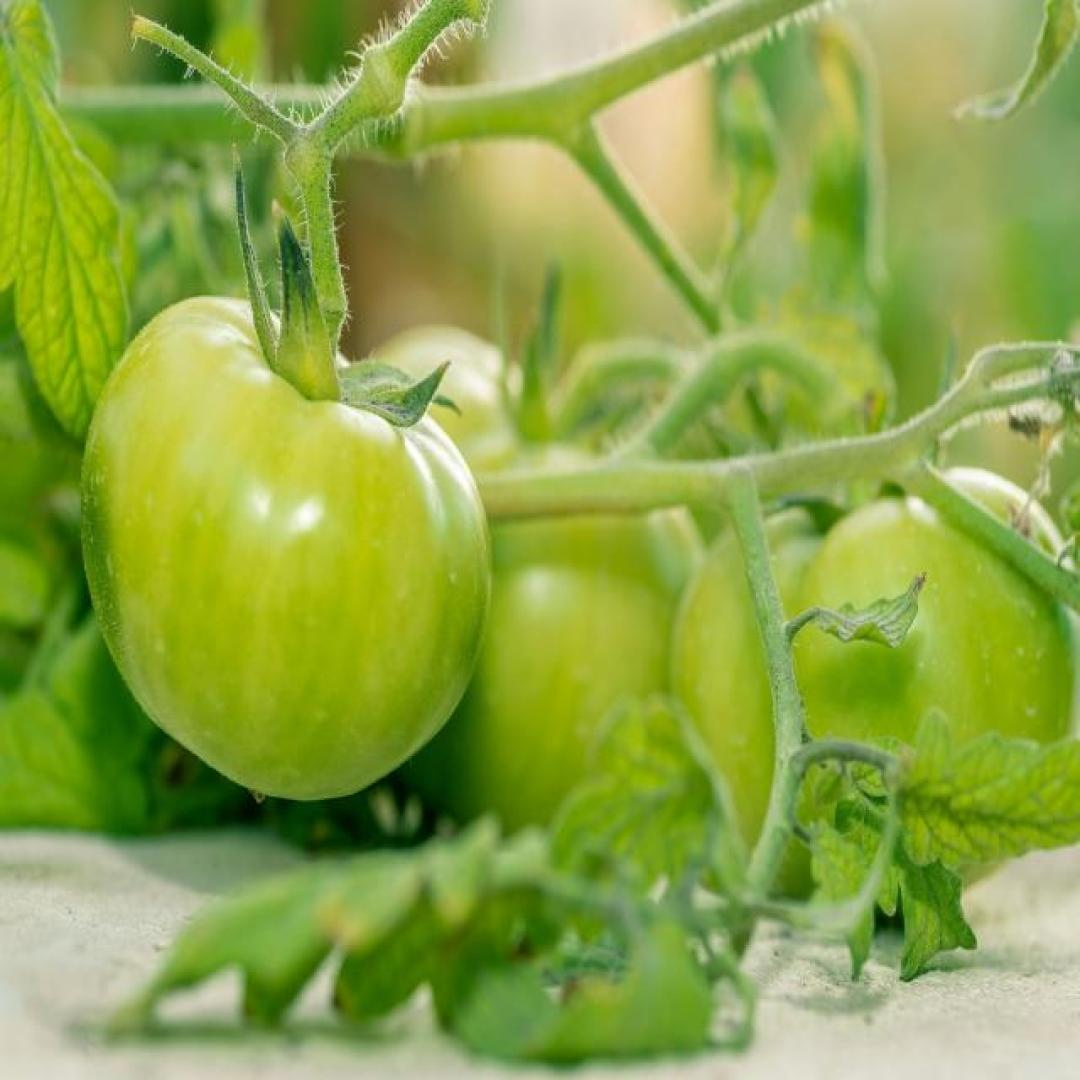mentah: (79, 292, 494, 805)
